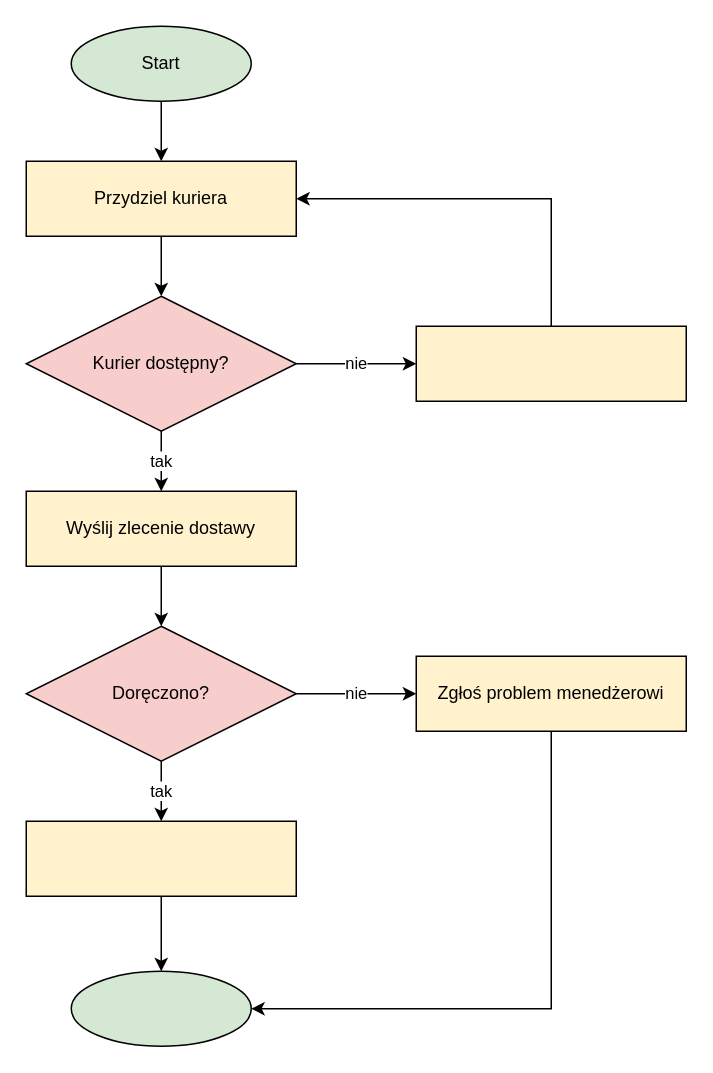
Some shapes in this 713 by 1073 pixel diagram are drawn without their labels. The shapes that lost their labels are listed below. From the top down, each one's centre as x and y in pixels, then its label:
At pixel 550 363: "Poczekaj".
At pixel 160 858: "Potwierdź doręczenie".
At pixel 160 1008: "Koniec".
